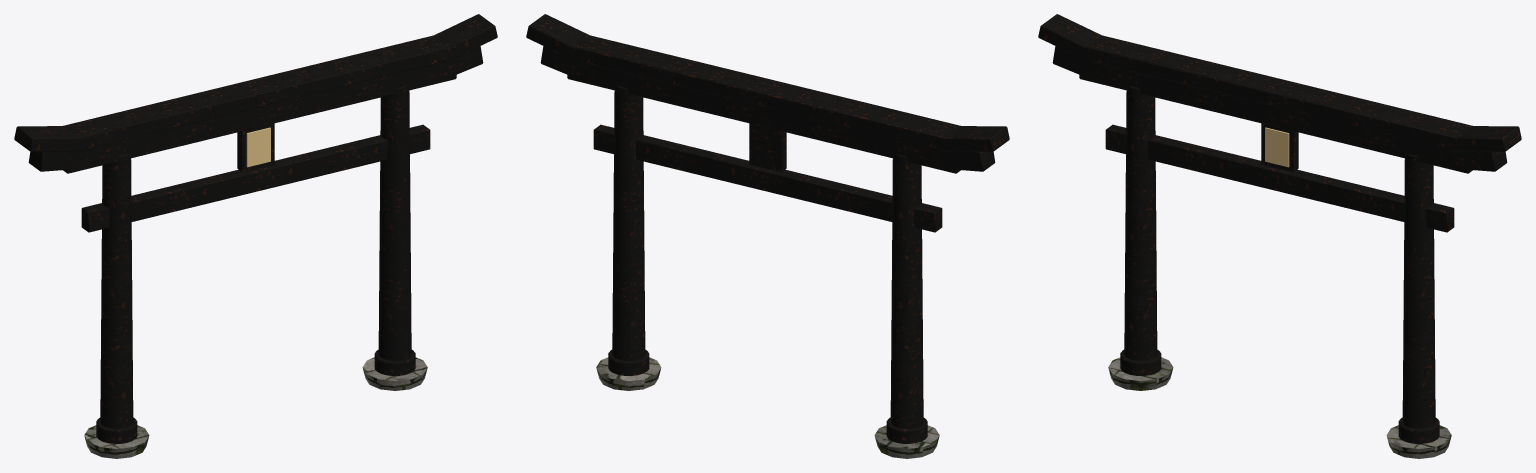
Rendered from Torii_Black.fbx.
3 views of the same model, side by side, from view 1: azimuth 30°, elevation 25°; view 2: azimuth 150°, elevation 25°; view 3: azimuth 330°, elevation 25° (orthographic).
Parts seen in each view (by area): view 1: Torii_Black_LOD0; view 2: Torii_Black_LOD0; view 3: Torii_Black_LOD0.
Part boxes in pixels (x1=…): Torii_Black_LOD0: x1=14, y1=14, x2=497, y2=458; Torii_Black_LOD0: x1=526, y1=14, x2=1009, y2=458; Torii_Black_LOD0: x1=1038, y1=14, x2=1521, y2=458.
Size of what is drawn, in the model's own units: 10.93 by 7.51 by 1.32.
